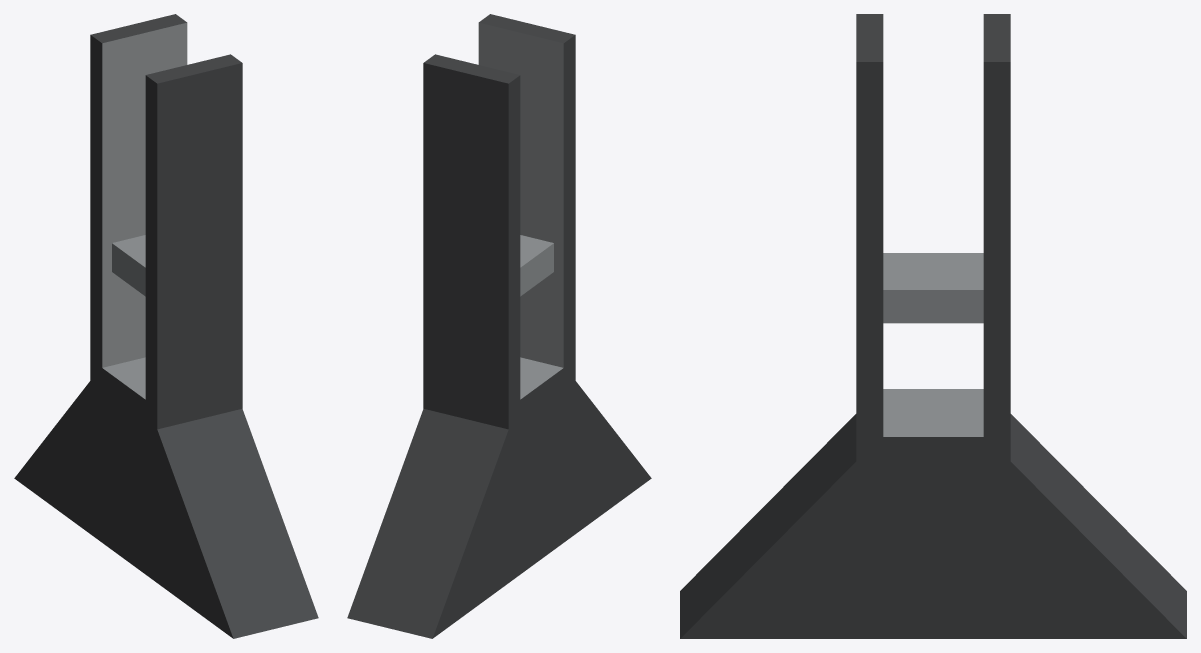
Rendered from Short_column_006.glb.
The picture shows the model from 3 angles, left to right: view 1: azimuth 30°, elevation 25°; view 2: azimuth 150°, elevation 25°; view 3: azimuth 270°, elevation 25°; orthographic projection. The views are drawn at different scales.
Visible parts, largest first — view 1: Short_column_006; view 2: Short_column_006; view 3: Short_column_006.
Boxes of the visible parts, x1,y1,x2,y2 form: Short_column_006: (14,14,318,638); Short_column_006: (347,14,651,638); Short_column_006: (680,14,1186,638).
Bounding box in the file's own units: 0.2321 × 1.3 × 1.03.
1 material, 1 textured.
